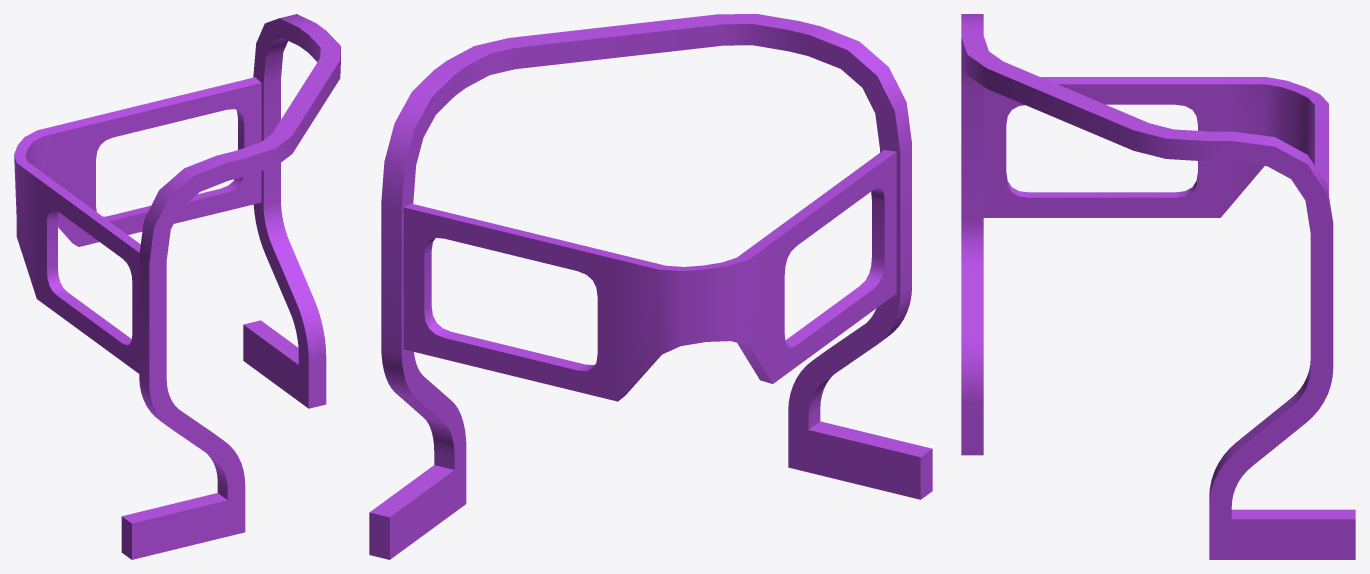
Rendered from Rallings_B_Turn_In.FBX.
3 renders of one model, left to right at view 1: azimuth 30°, elevation 25°; view 2: azimuth 150°, elevation 25°; view 3: azimuth 270°, elevation 25°, orthographic. The views are drawn at different scales.
Parts seen in each view (by area): view 1: Rallings_B_Turn_In; view 2: Rallings_B_Turn_In; view 3: Rallings_B_Turn_In.
Part boxes in pixels (x1,y1,x2,y2): Rallings_B_Turn_In: (14, 14, 340, 559); Rallings_B_Turn_In: (369, 14, 932, 559); Rallings_B_Turn_In: (961, 14, 1355, 559).
Size of the model in its own units: 87.51 by 103 by 87.51.
